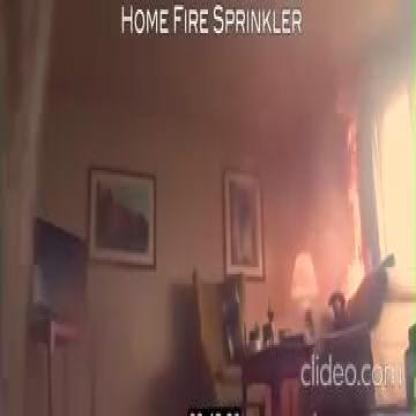fire: (334, 114, 365, 300)
